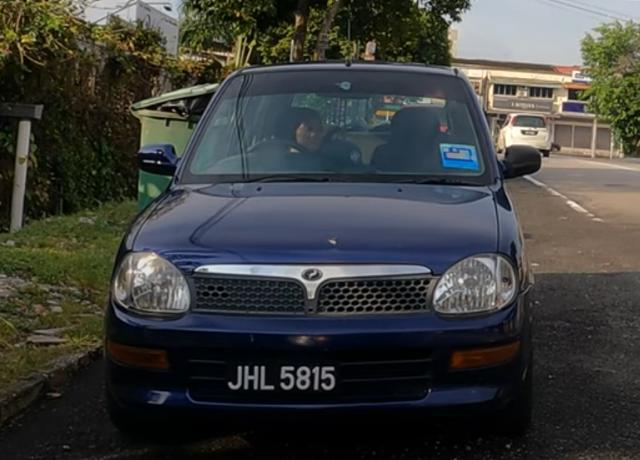License_Plate: (218, 363, 346, 399)
car: (103, 60, 543, 437), (497, 114, 561, 158)
